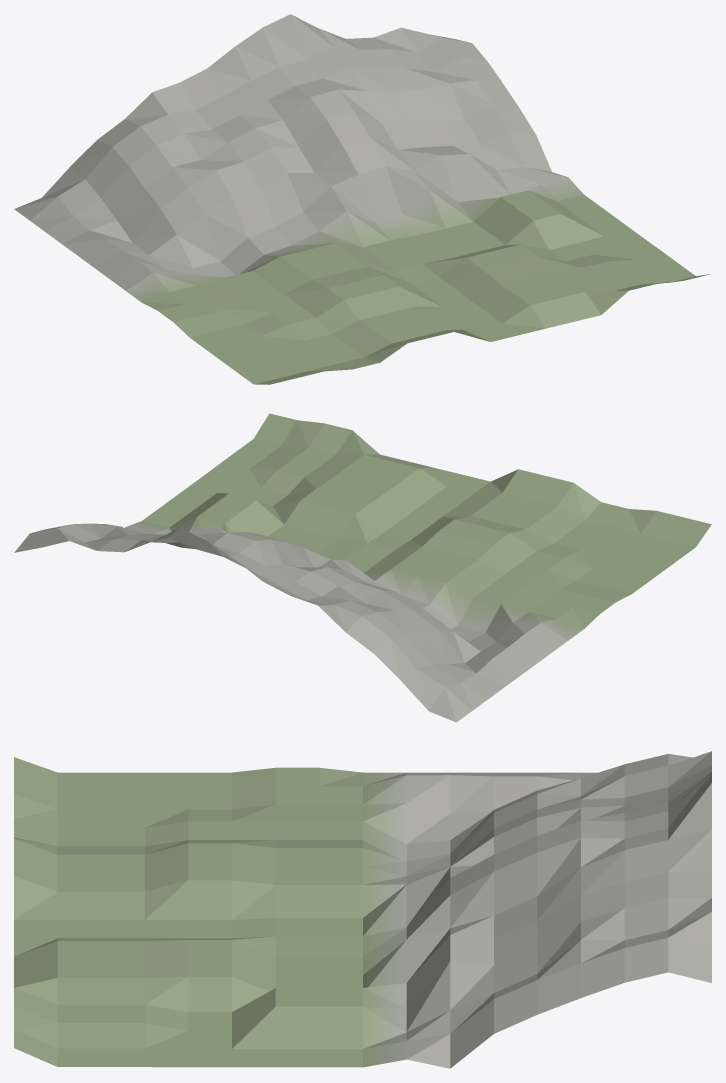
The picture shows the model from 3 angles, top to bottom: view 1: azimuth 30°, elevation 25°; view 2: azimuth 150°, elevation 25°; view 3: azimuth 270°, elevation 25°; orthographic projection. The views are drawn at different scales.
Size of the model in its own units: 32 by 9.64 by 32.
